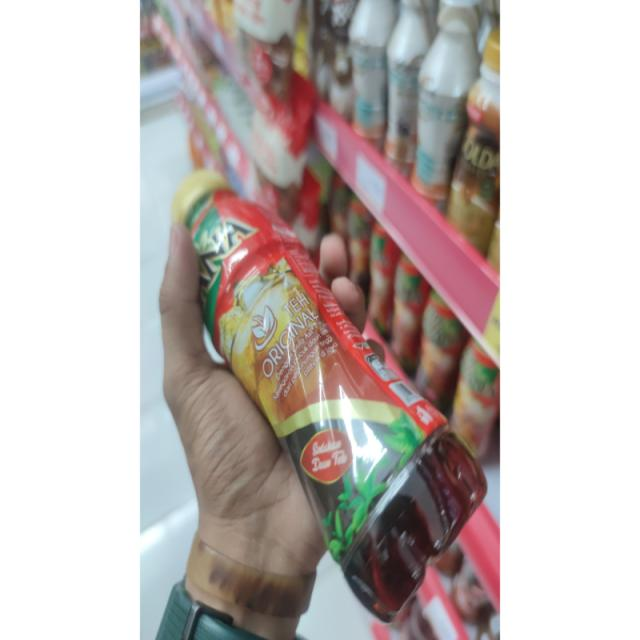botol: (143, 136, 504, 640)
